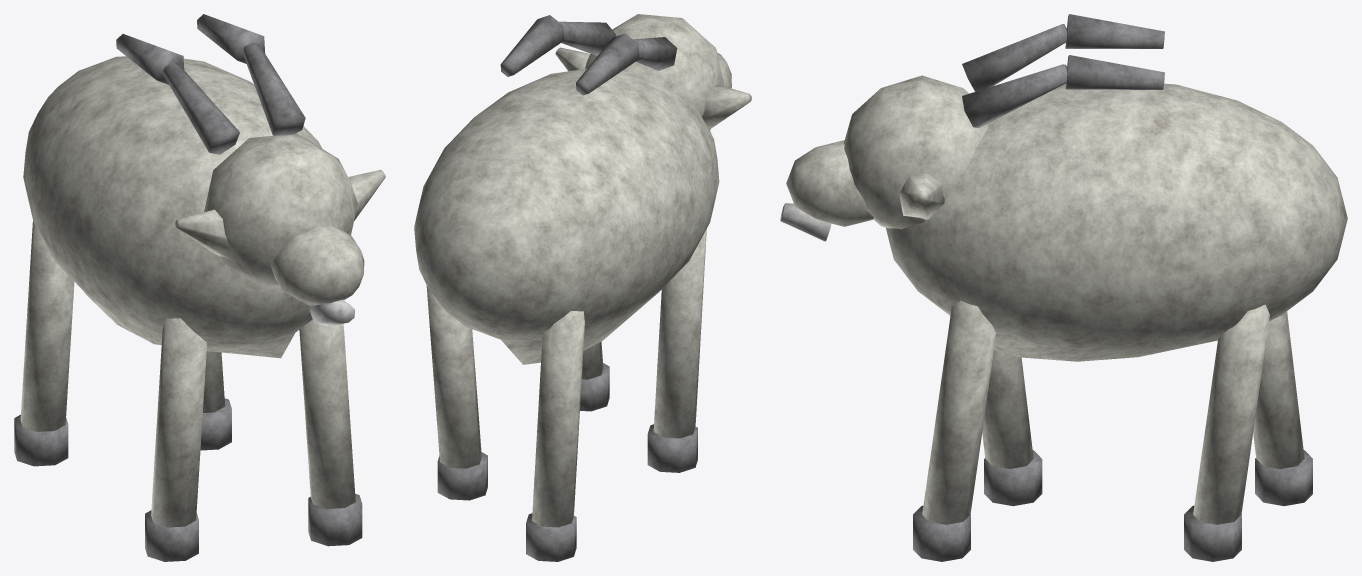
The model's file is mob_kambing_walk3.obj.
3 renders of one model, left to right at view 1: azimuth 30°, elevation 25°; view 2: azimuth 150°, elevation 25°; view 3: azimuth 270°, elevation 25°, orthographic. The views are drawn at different scales.
Visible parts, largest first — view 1: mob_kambing; view 2: mob_kambing; view 3: mob_kambing.
Boxes of the visible parts, x1=… form: mob_kambing: x1=14, y1=14, x2=385, y2=561; mob_kambing: x1=414, y1=14, x2=751, y2=561; mob_kambing: x1=780, y1=14, x2=1347, y2=561.
Bounding box in the file's own units: 0.5506 × 1.03 × 1.08.
Materials: 1 (1 with a texture image).
